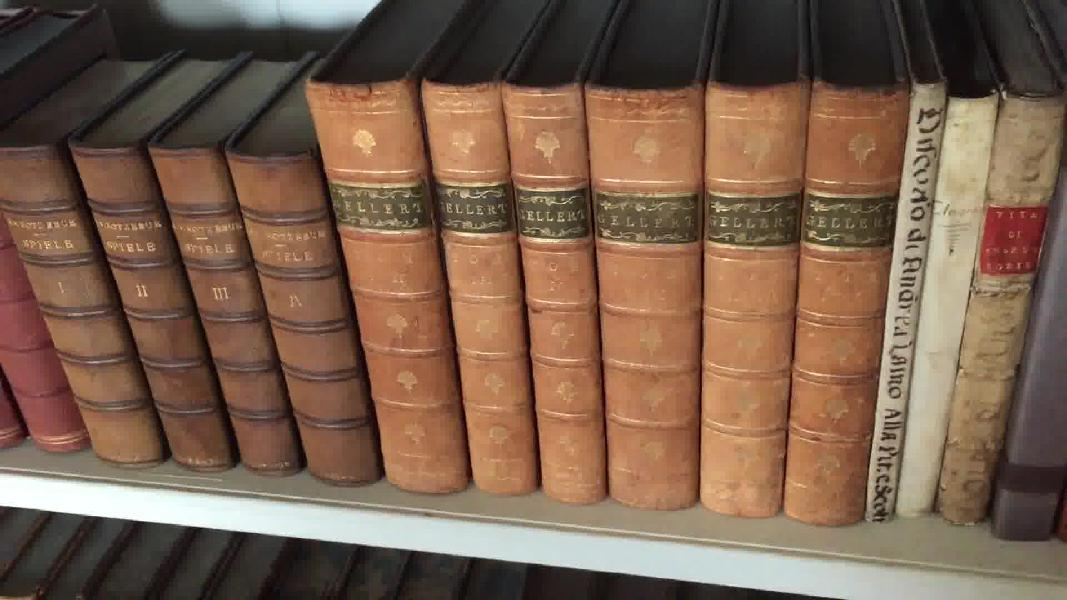Aa6-14_17: (8, 134, 411, 493)
Aa6-18_23: (302, 75, 908, 544)
Aa6-24: (870, 69, 950, 534)
Aa6-25: (900, 51, 996, 535)
Aa6-26: (933, 58, 1067, 539)
